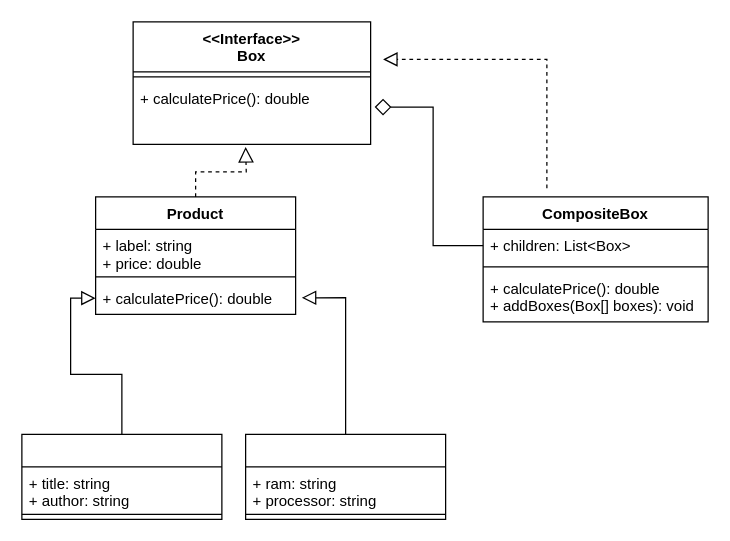
Some shapes in this 730 by 541 pixel diagram are drawn without their labels. Here are the shapes that lost their labels. From the top down, the box of each, then its label:
(21, 433, 222, 519): Book
(244, 433, 446, 519): Computer
